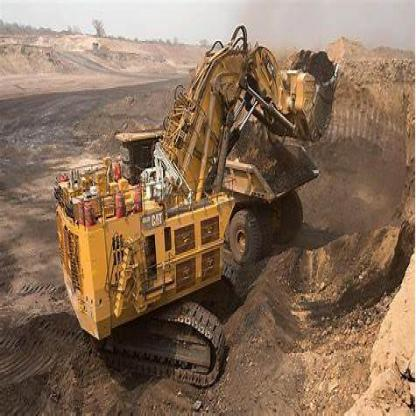excavator: (59, 34, 335, 394)
